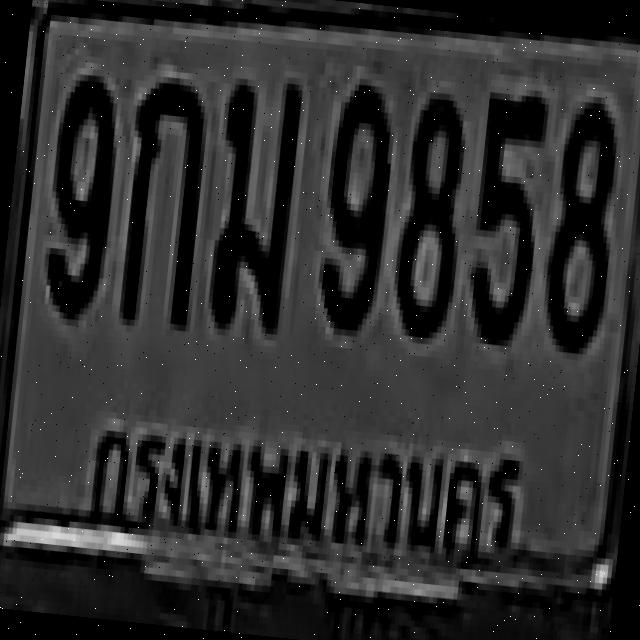10GorGai: (113, 73, 210, 324)
42MorMa: (202, 70, 300, 328)
5: (460, 85, 546, 341)
8: (536, 93, 621, 349), (388, 84, 472, 333)
9: (35, 66, 120, 315), (314, 80, 395, 328)
Bangkok: (66, 388, 536, 576)
